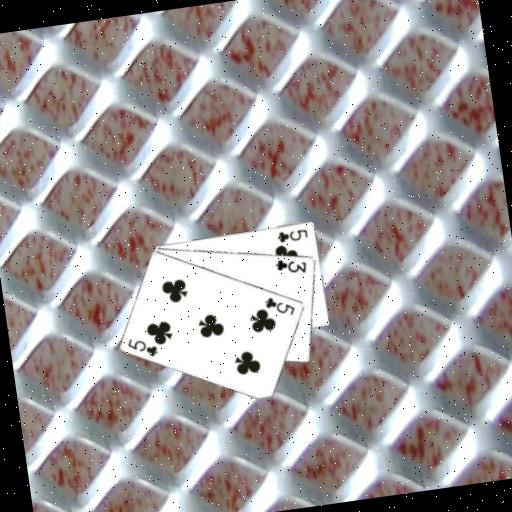3C: (272, 253, 310, 278)
5C: (124, 332, 161, 362), (262, 291, 298, 320), (274, 225, 310, 245)
